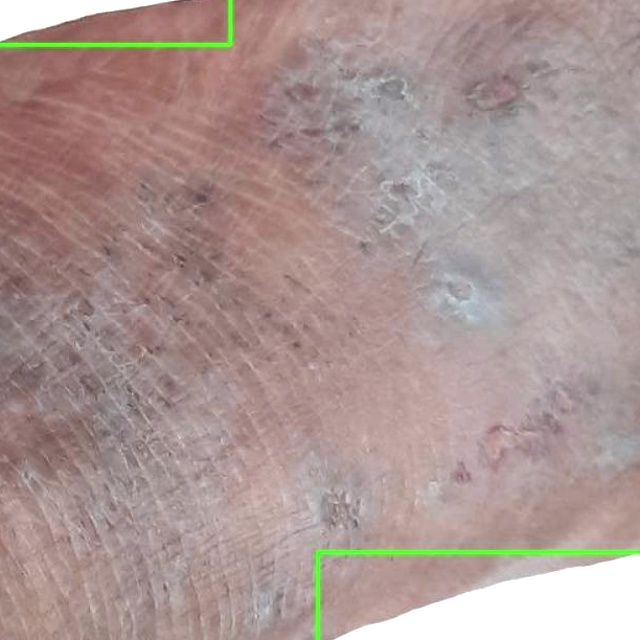Contact Dermatitis: (318, 552, 639, 639), (0, 0, 230, 44)
